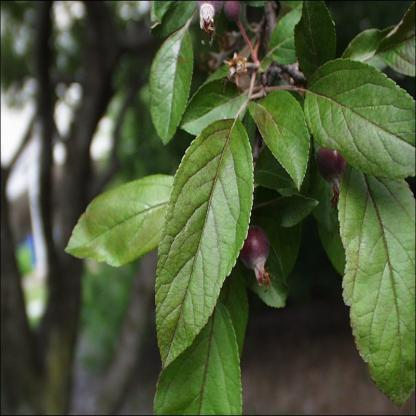Apple leaf: (325, 139, 415, 415), (150, 112, 245, 368), (60, 170, 192, 276), (298, 64, 416, 178), (146, 294, 247, 416), (242, 80, 315, 194), (143, 11, 202, 150)
